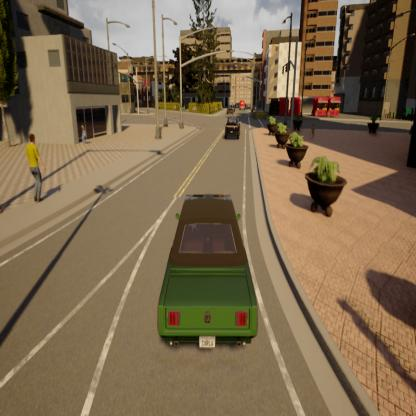Cars: (147, 185, 268, 359), (224, 115, 242, 142), (238, 97, 247, 112), (224, 104, 234, 115)
Pedestrian: (20, 131, 49, 208), (78, 121, 90, 148)
